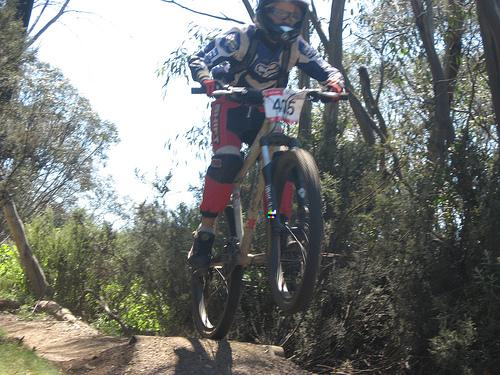car: (190, 85, 354, 343)
person: (190, 1, 345, 275)
